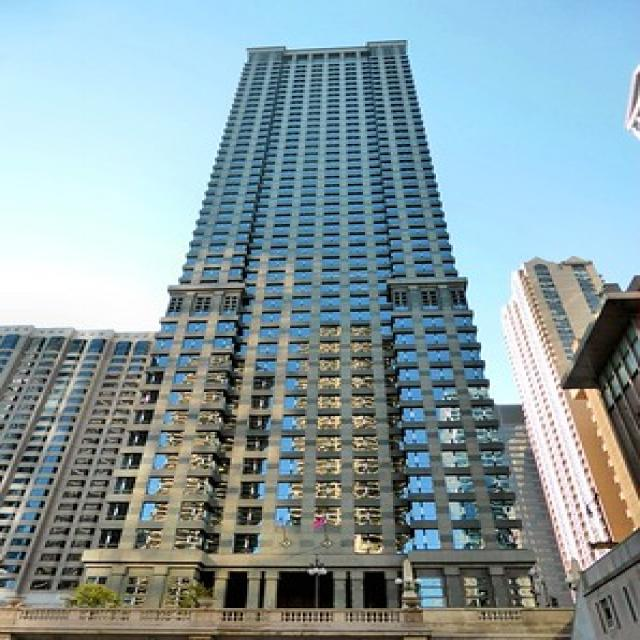Normal_building: (74, 33, 551, 610)
